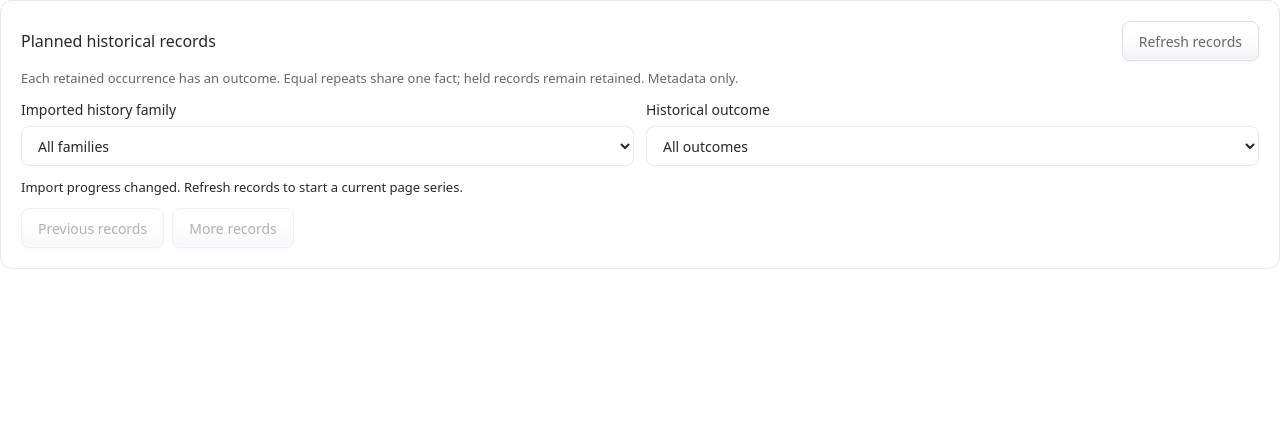
Test: historical import record pages › rejects a delayed first page when current status advances before it settles
Check: the text "9007199254740993123" is not shown
Click the button "Refresh records".
click(1190, 41)  # box [1122, 21, 1259, 61]
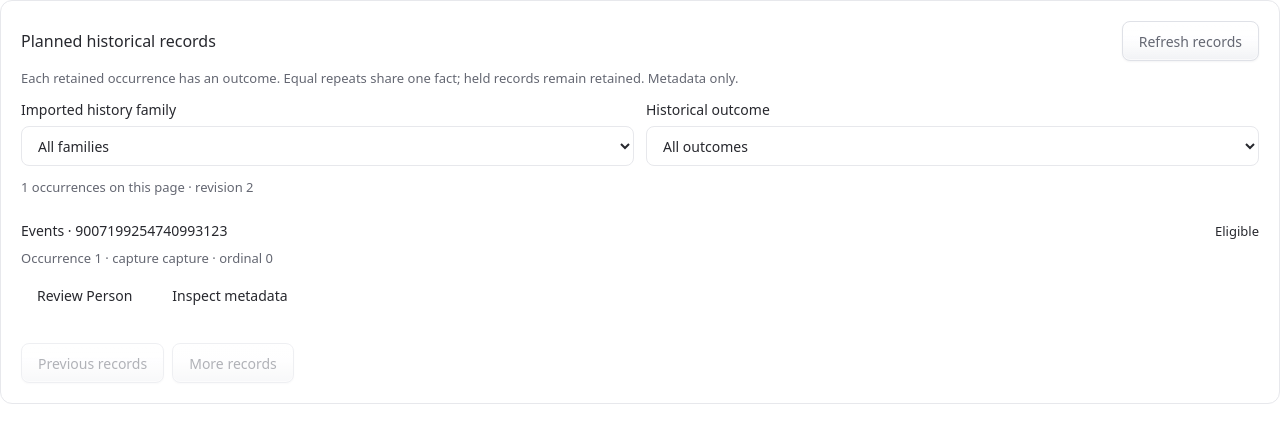
Check: the text "revision 2" is shown, box [21, 178, 254, 196]
